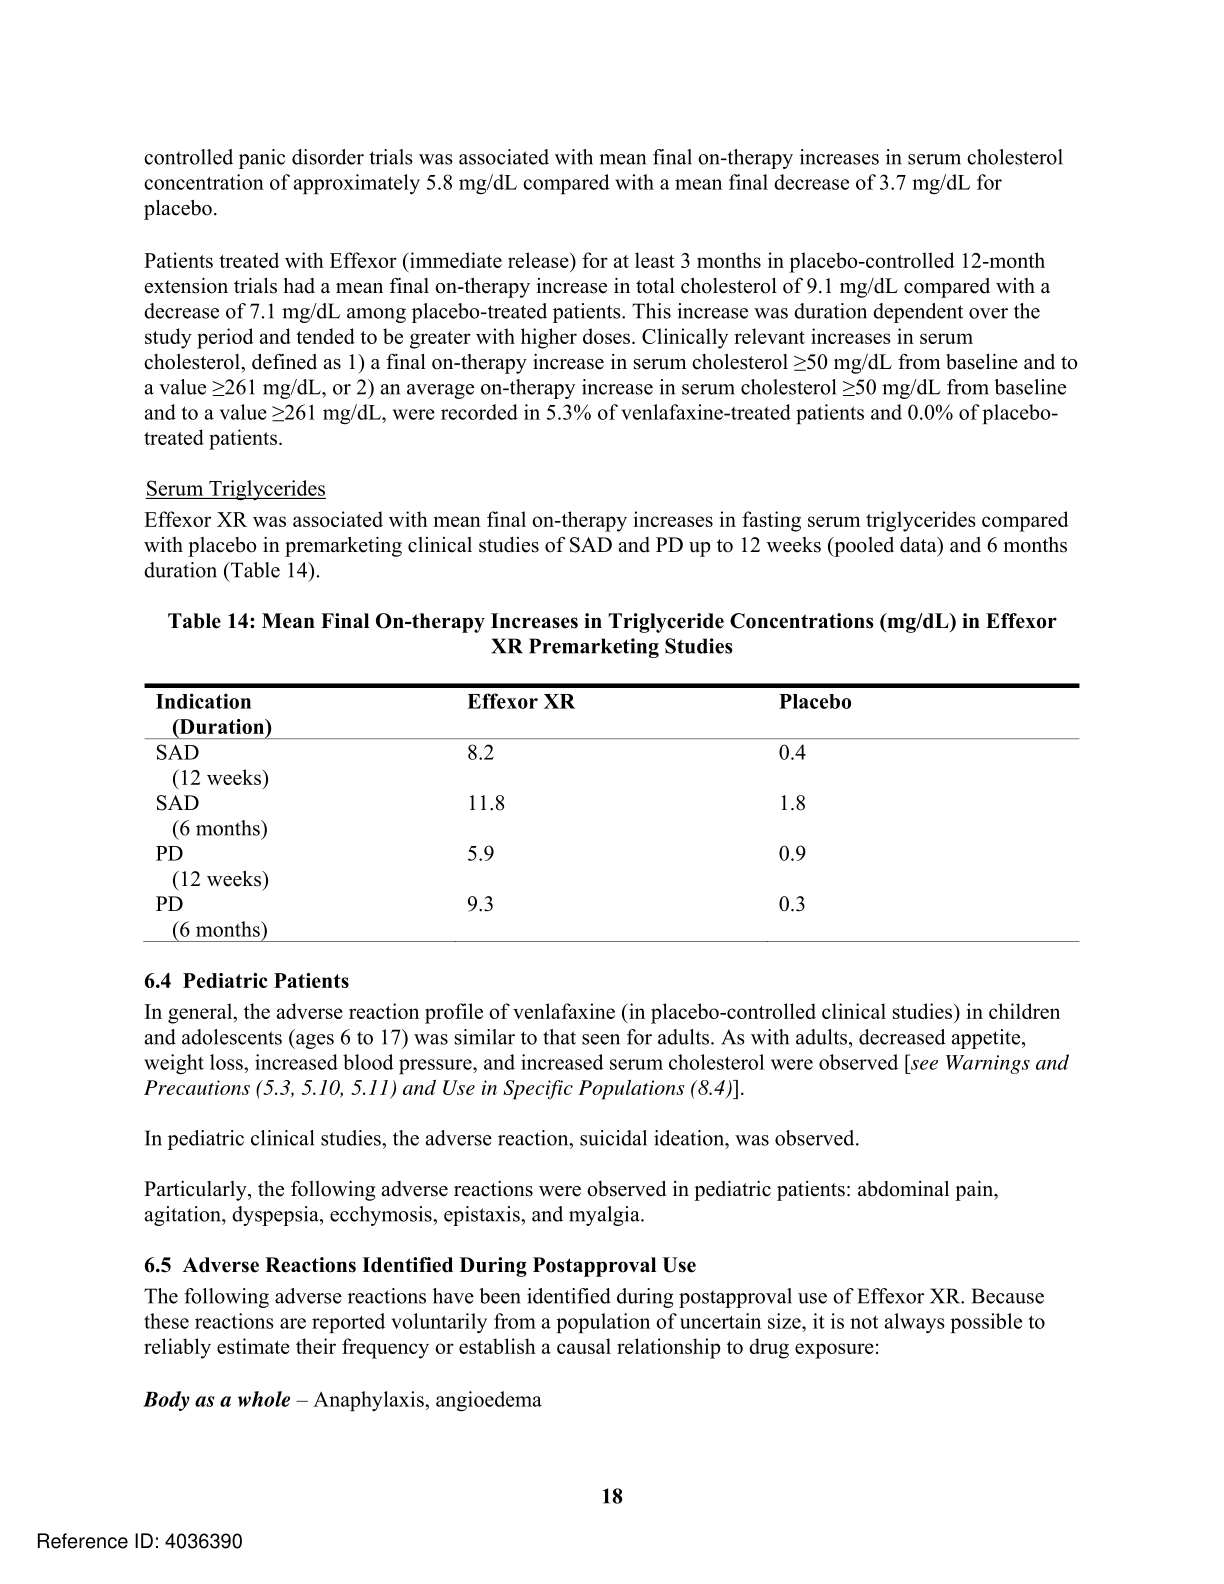partial_lined: (141, 679, 1084, 946)
